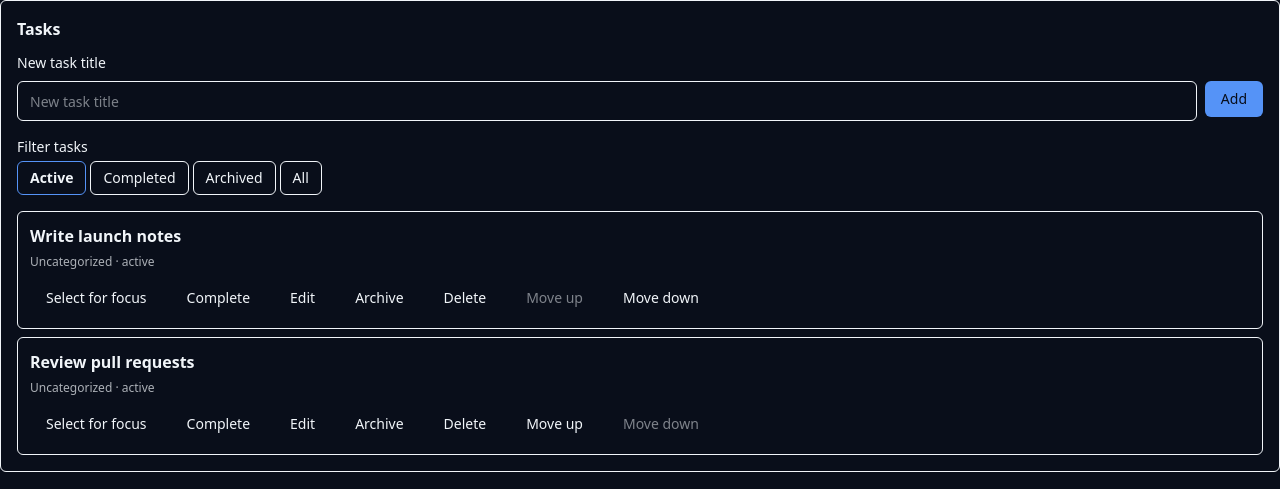
Test case: <TaskPanel /> row actions (slice 4) › archives from Active and unarchives from Archived
This screenshot has width=1280, height=489.
Expected: the list item "Write launch notes" is shown, [30, 225, 181, 247]
Step 1. Click the button "Archive" below "Write launch notes" → (379, 298), box [339, 280, 420, 316]
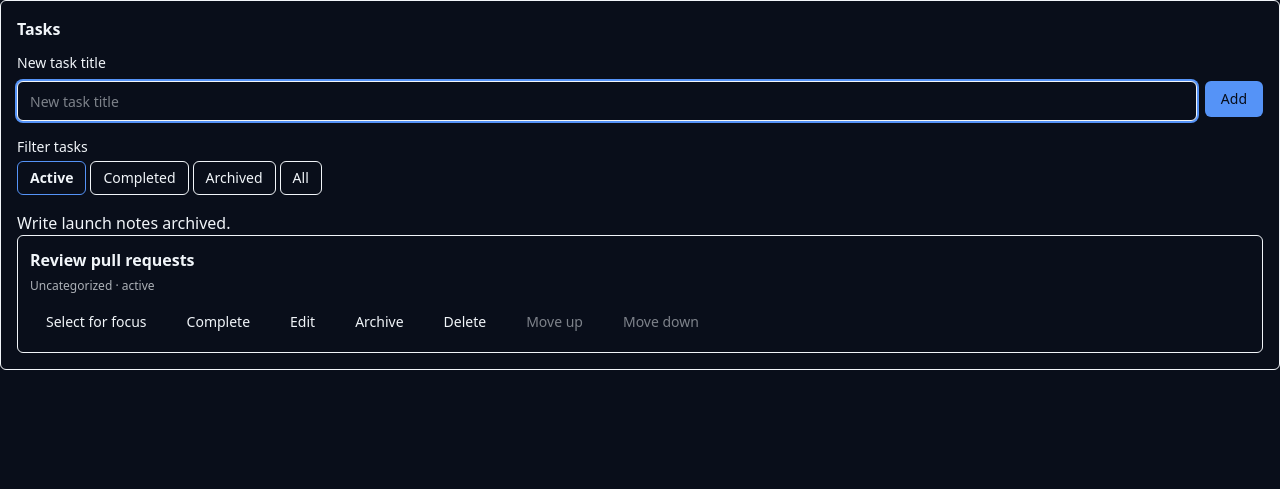
Now the text "Write launch notes archived." is shown, box [17, 212, 230, 234]
Step 2. Click the radio button labelled "Archived" → (234, 178), box [192, 161, 276, 195]
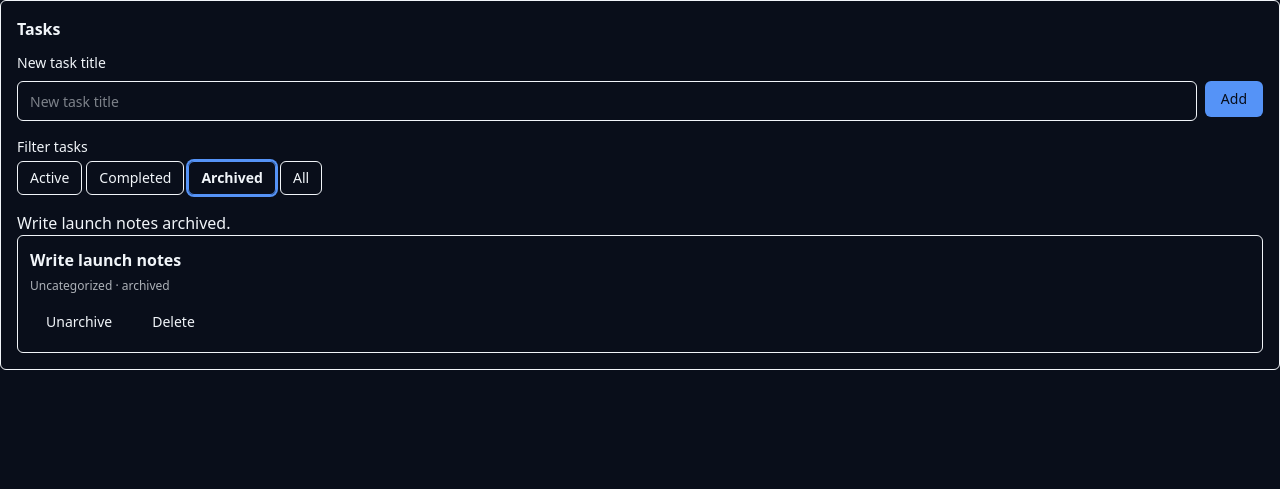
Now the list item "Write launch notes" is shown, box [30, 249, 181, 271]
Step 3. Click the button "Unarchive" → (79, 322), box [30, 304, 128, 340]
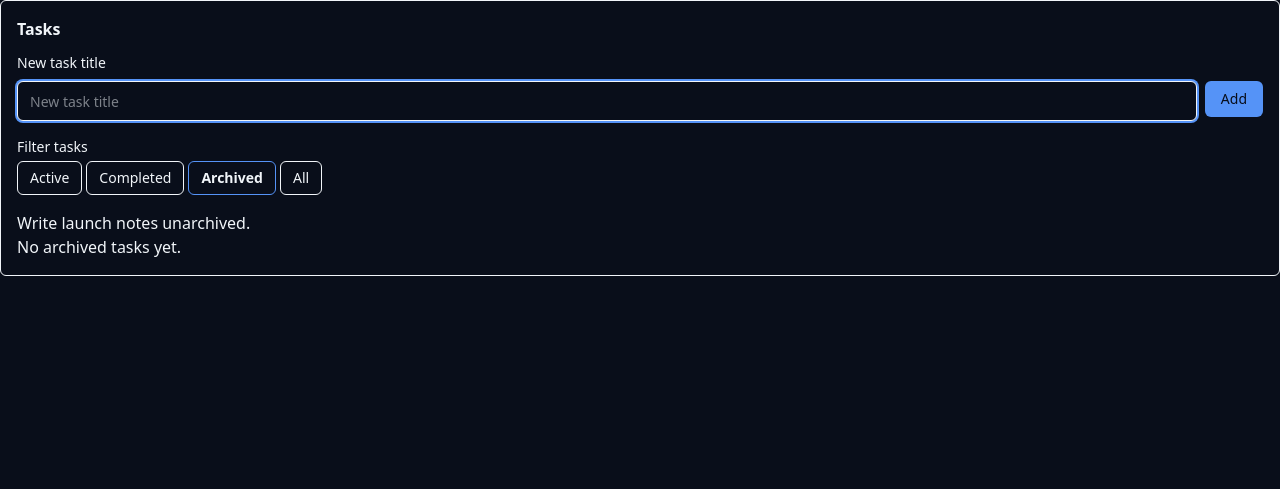
Now the text "Write launch notes unarchived." is shown, box [17, 212, 250, 234]
